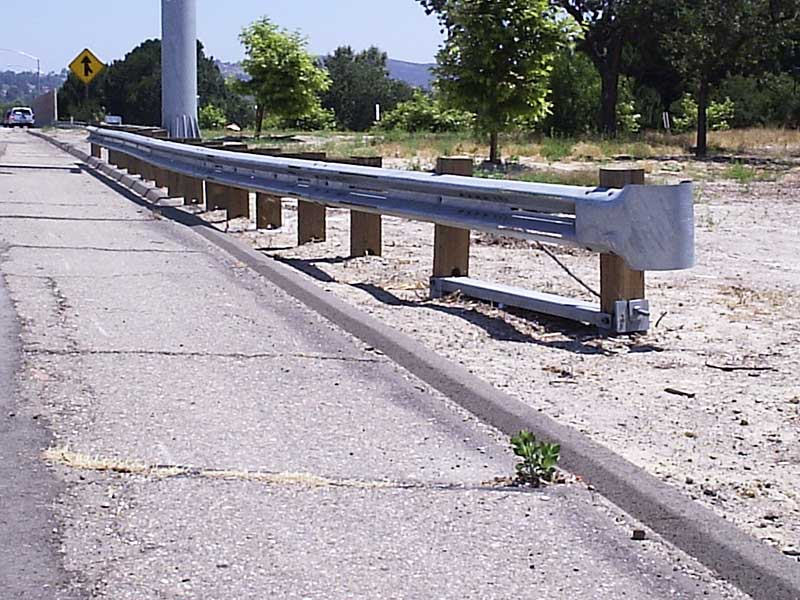not_damaged: (110, 118, 550, 234)
